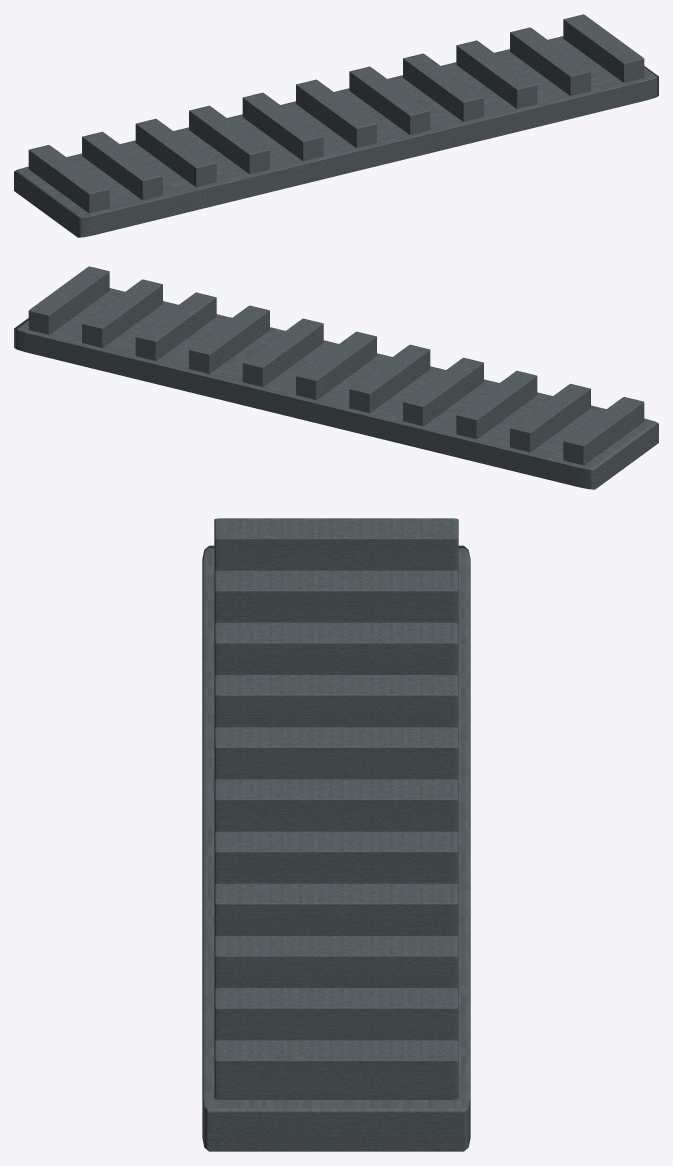
The model's file is cable-tray.glb.
3 views of the same model, one above another, from view 1: azimuth 30°, elevation 25°; view 2: azimuth 150°, elevation 25°; view 3: azimuth 270°, elevation 25° (orthographic). The views are drawn at different scales.
Parts seen in each view (by area): view 1: slat (×11), rim; view 2: slat (×11), rim; view 3: slat (×11), rim.
Boxes of the visible parts, bbox=[...] form: slat (×11): bbox=[28, 14, 644, 213]; rim: bbox=[14, 36, 658, 237]; slat (×11): bbox=[28, 266, 644, 465]; rim: bbox=[14, 288, 658, 489]; slat (×11): bbox=[214, 518, 458, 1099]; rim: bbox=[202, 545, 470, 1151].
Size of the model in its own units: 1.2 by 0.0788 by 0.24.
Materials: 1 (1 with a texture image).
